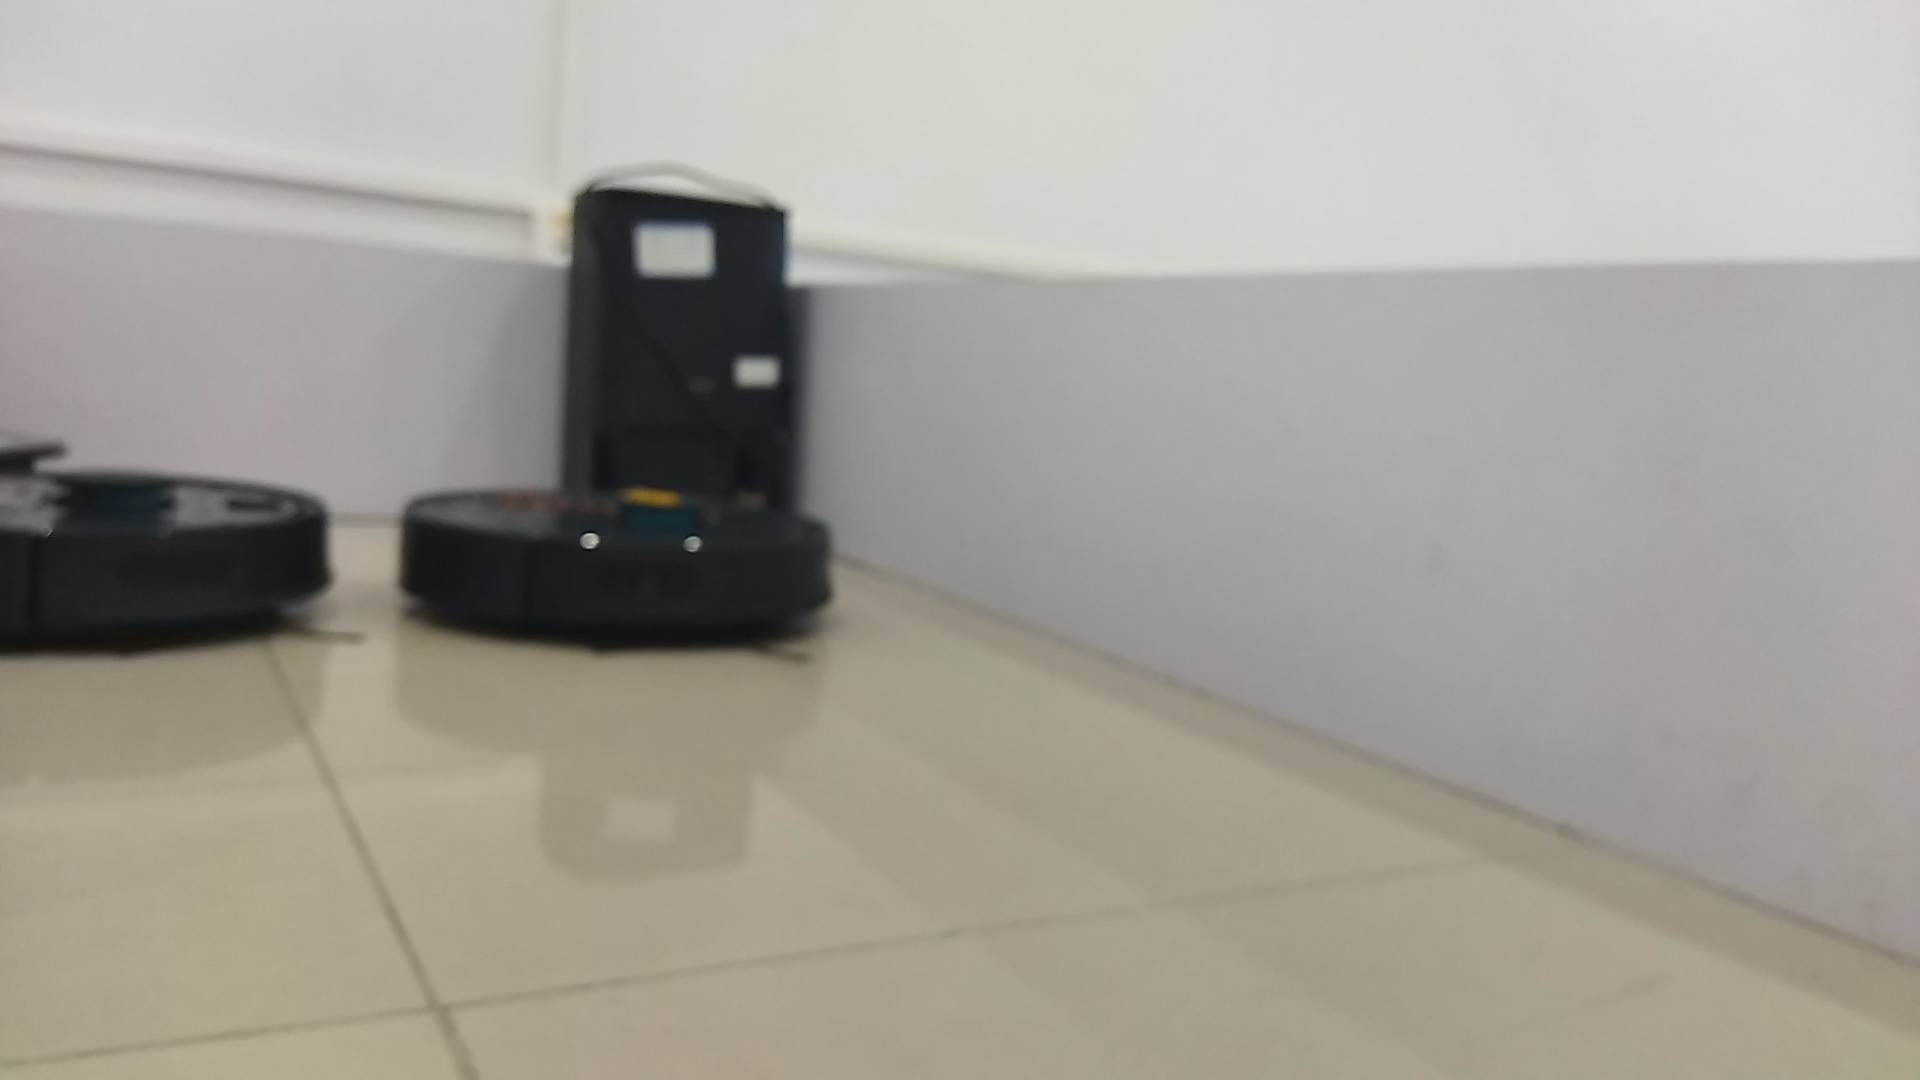dust collecting barrel: (563, 185, 794, 495)
